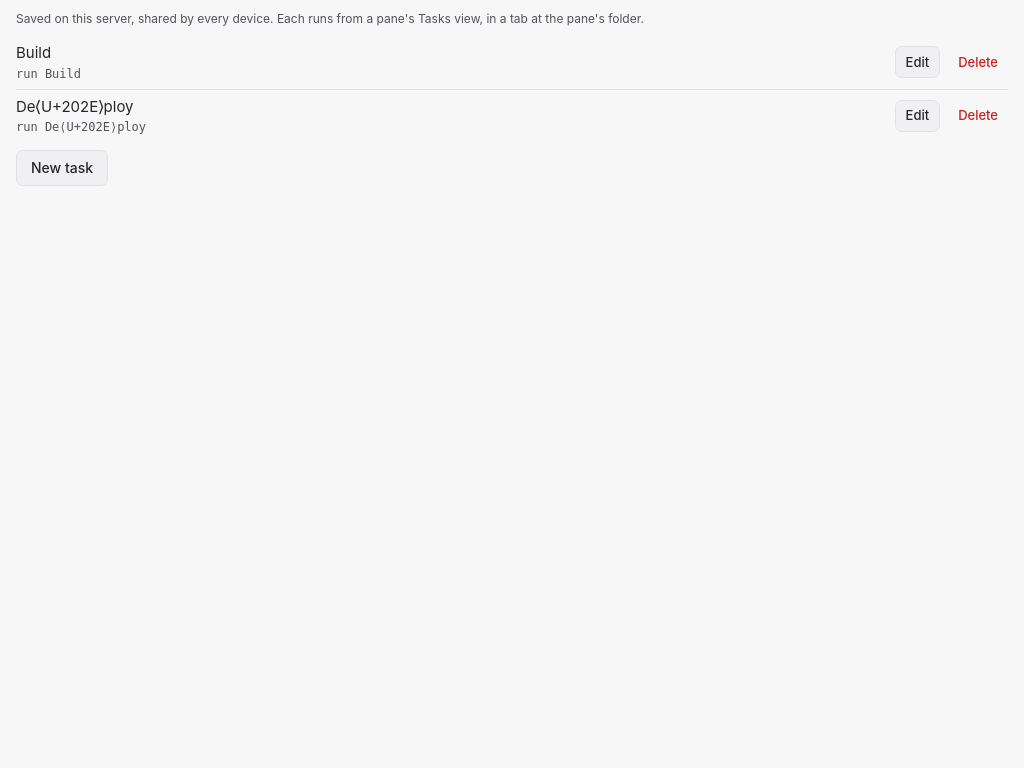
Scenario: UserTasksSection › cancelled, nothing is deleted
Click the button with aria-label "Delete Build" at point(978, 62), box top-left (948, 46), bottom-right (1008, 78)
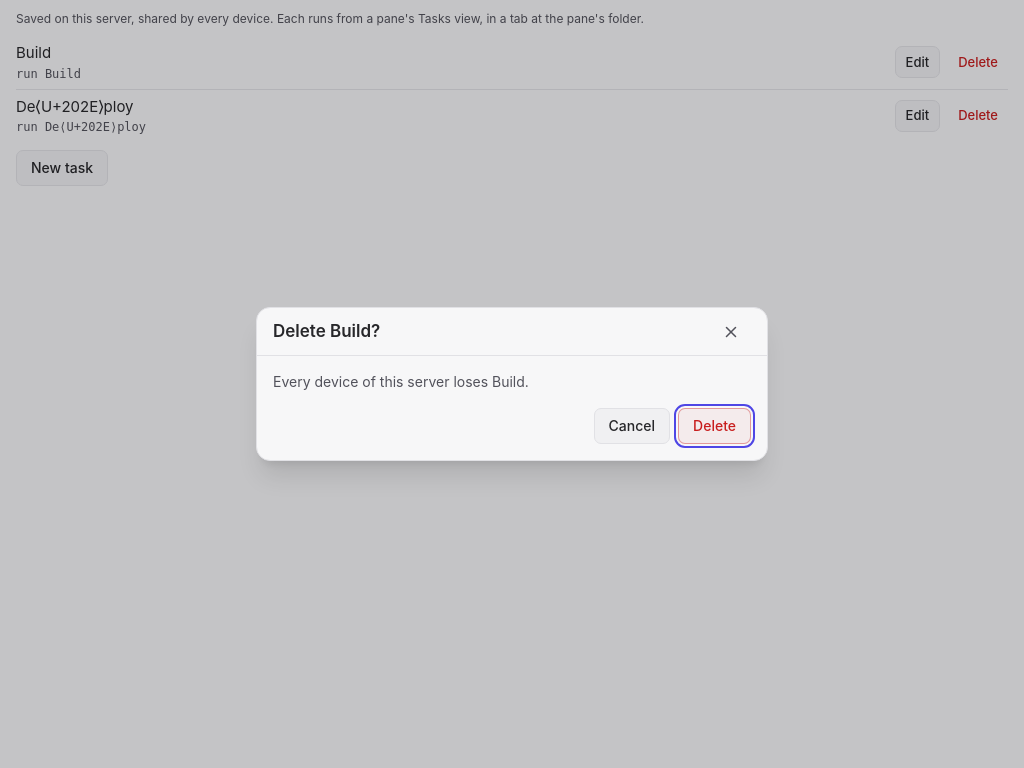
Click the button "Cancel" at point(632, 426), box top-left (594, 408), bottom-right (670, 444)
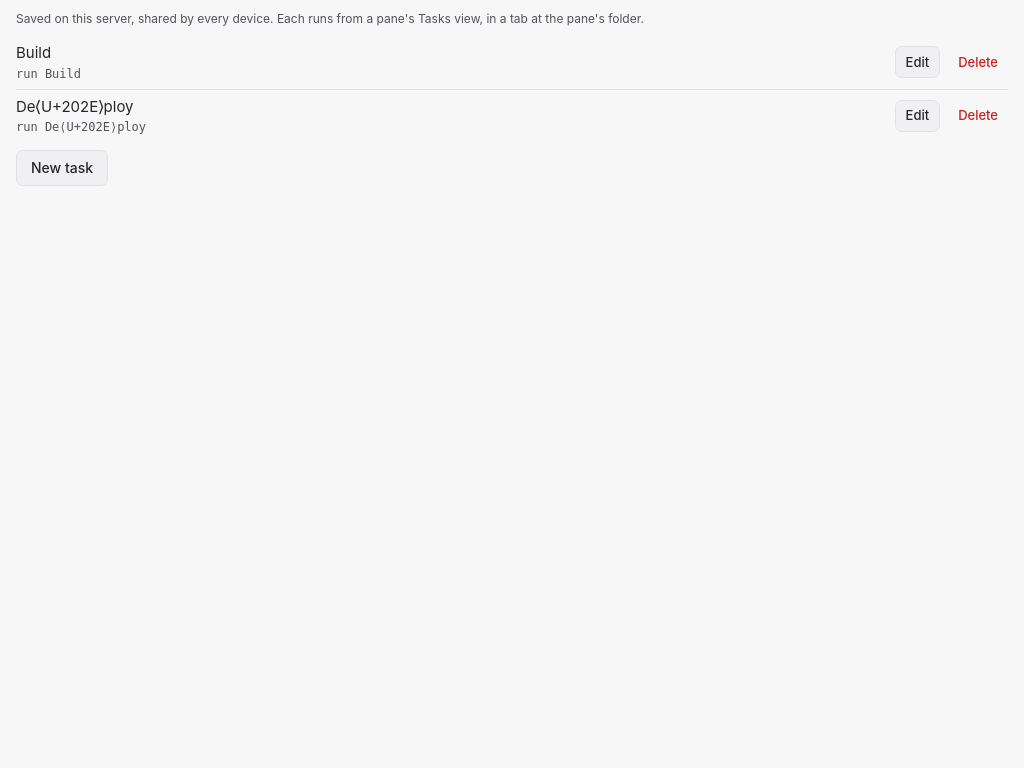
Expected: the dialog is gone
